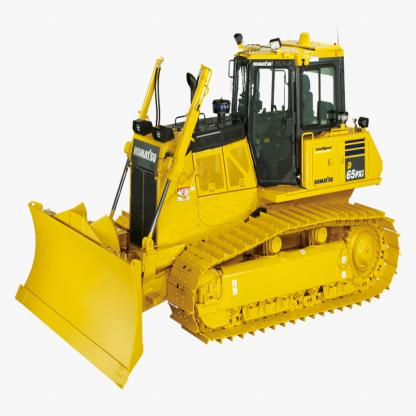bull_dozer/loader/grader: (18, 30, 393, 393)
